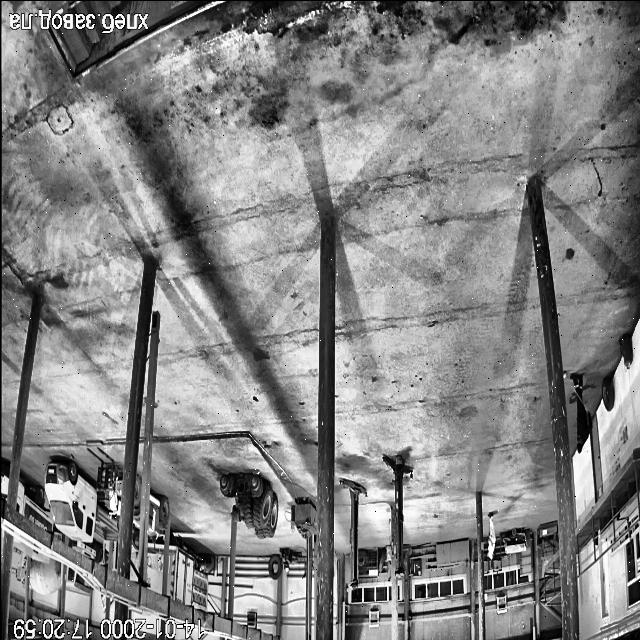class4: (570, 374, 591, 452), (488, 512, 496, 560)
class7: (44, 460, 116, 540), (166, 533, 207, 612), (16, 480, 52, 532), (97, 462, 122, 529), (144, 494, 168, 542), (30, 558, 60, 595), (147, 540, 164, 594), (14, 535, 48, 560), (132, 476, 142, 551), (66, 567, 92, 595), (73, 541, 104, 563), (109, 478, 122, 518), (0, 464, 8, 500), (16, 558, 24, 582), (130, 552, 136, 579), (132, 608, 148, 613), (101, 596, 104, 608), (165, 532, 168, 534), (133, 556, 135, 558), (166, 532, 167, 534)
tractor: (619, 334, 632, 368)
truck: (383, 455, 412, 576), (340, 479, 366, 588)
